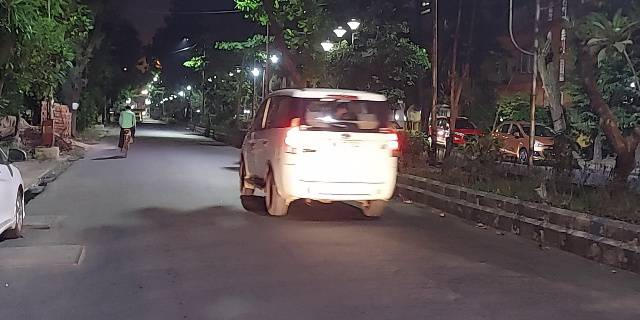Car: (239, 87, 398, 216)
Cycle: (116, 105, 135, 156)
